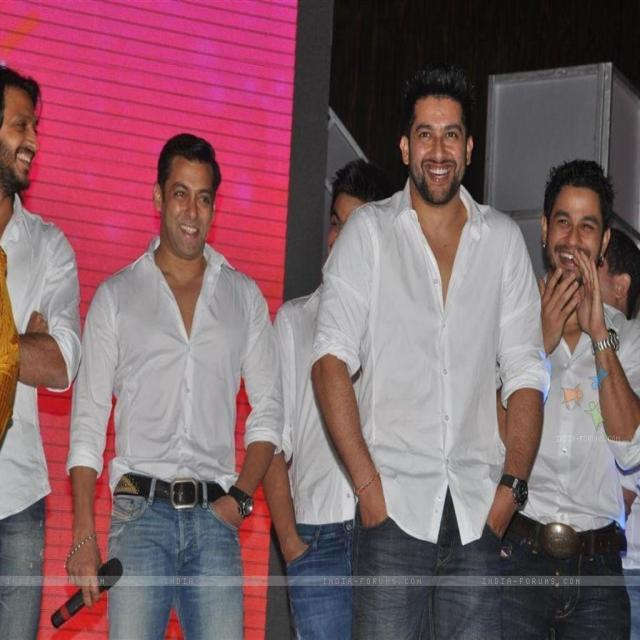Nonhelmet: (522, 146, 620, 290), (394, 64, 480, 208), (142, 119, 225, 264), (0, 54, 49, 200)
